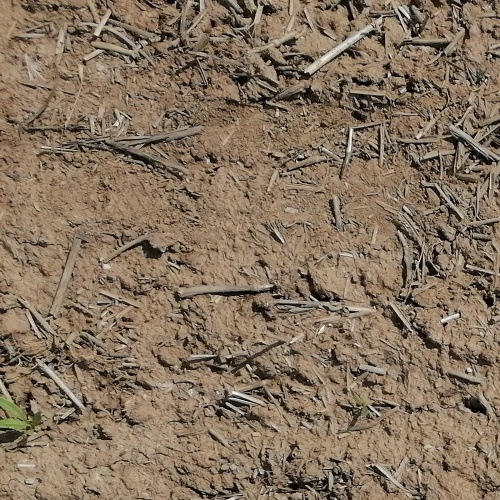beet: (0, 396, 44, 437), (351, 389, 371, 418)
